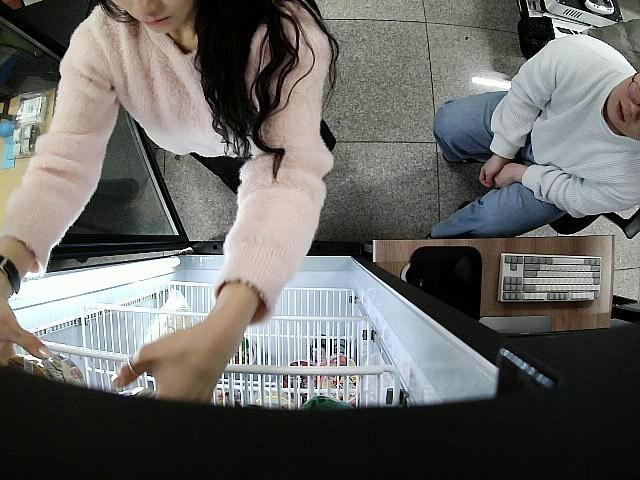04_chapagetti_S: (8, 348, 89, 396)
